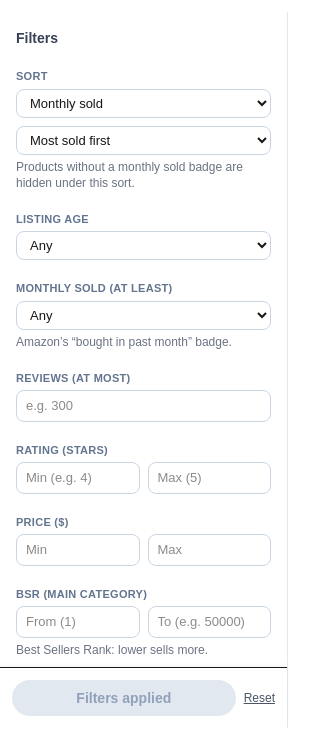
Test: ProductFilterPanel categories (spec 2026-10-12 §5.1) › Reset clears the broad category with everything else
Click the button "Reset".
click(259, 698)  # box [244,690,275,706]
(page scrolled)
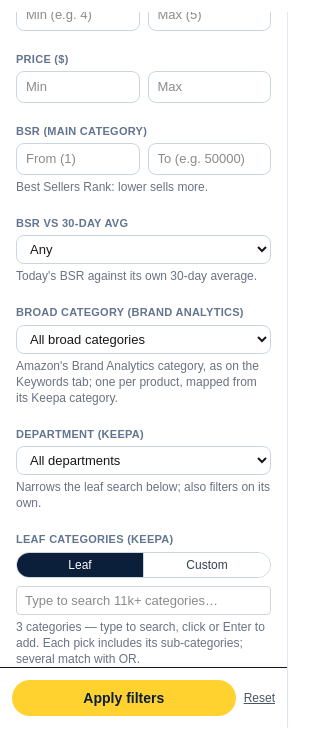
Expected: the dropdown labelled "Broad category (Brand Analytics)" shows "All broad categories", [16,324,271,354]
